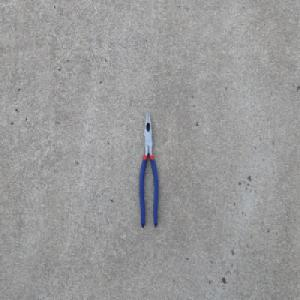Pliers: (138, 110, 159, 229)
